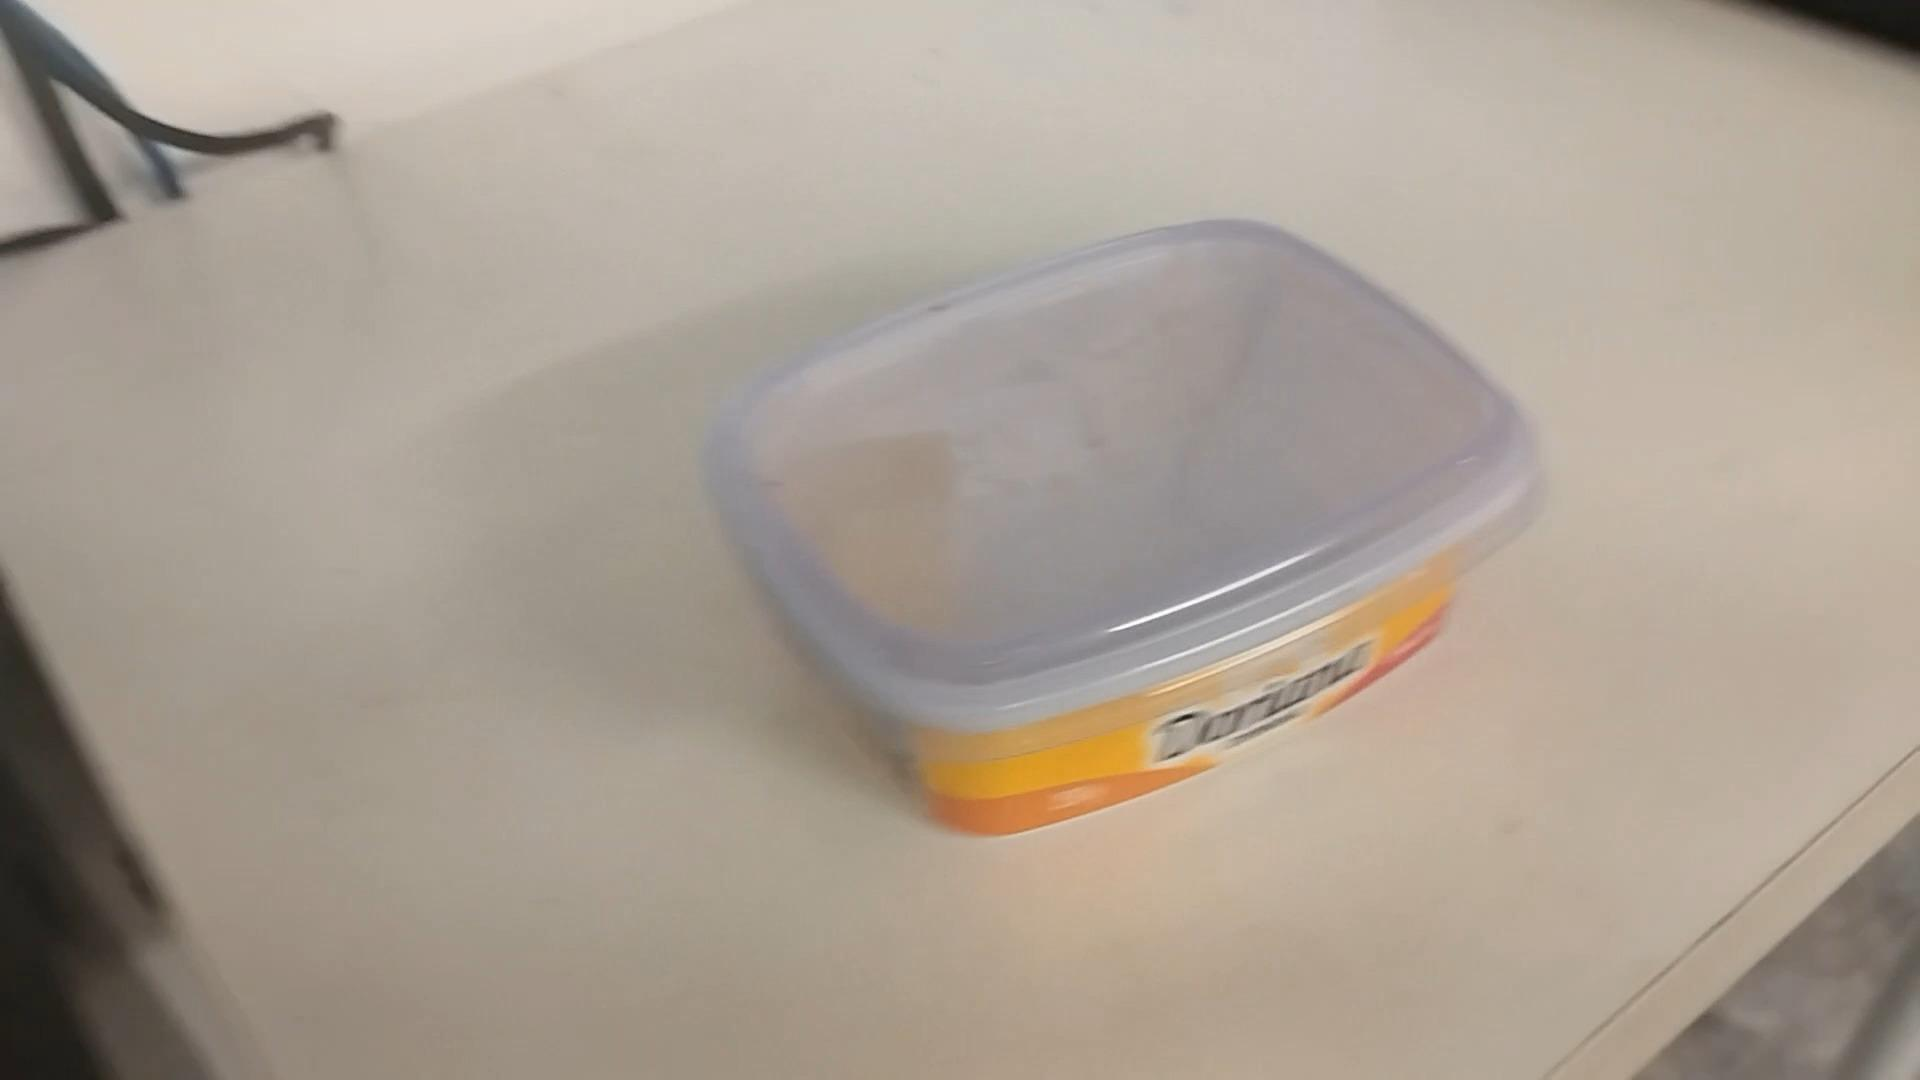butter: (704, 220, 1553, 841)
